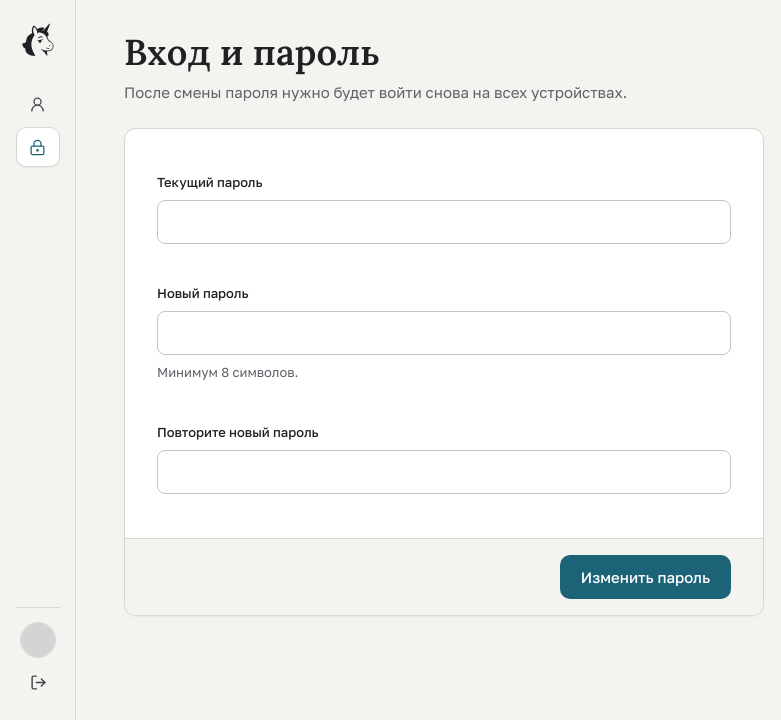
Test: AccountSettingsPage › shows a localized error for a wrong current password
Step 1. Type "wrong-password" into the password field labelled "Текущий пароль" → (444, 222), box top-left (157, 200), bottom-right (731, 244)
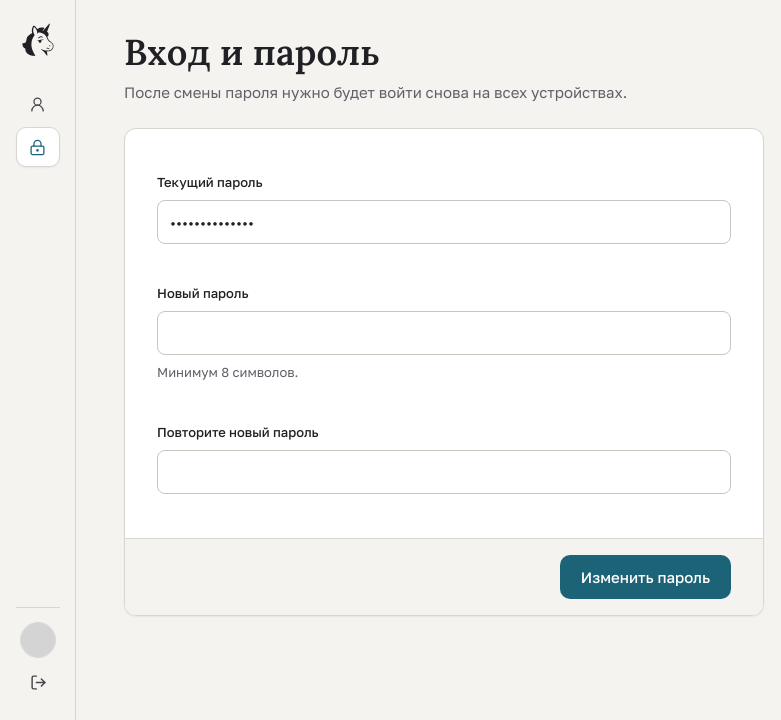
Step 2. Type "new-password-1" into the password field labelled "Новый пароль" → (444, 333), box top-left (157, 311), bottom-right (731, 355)
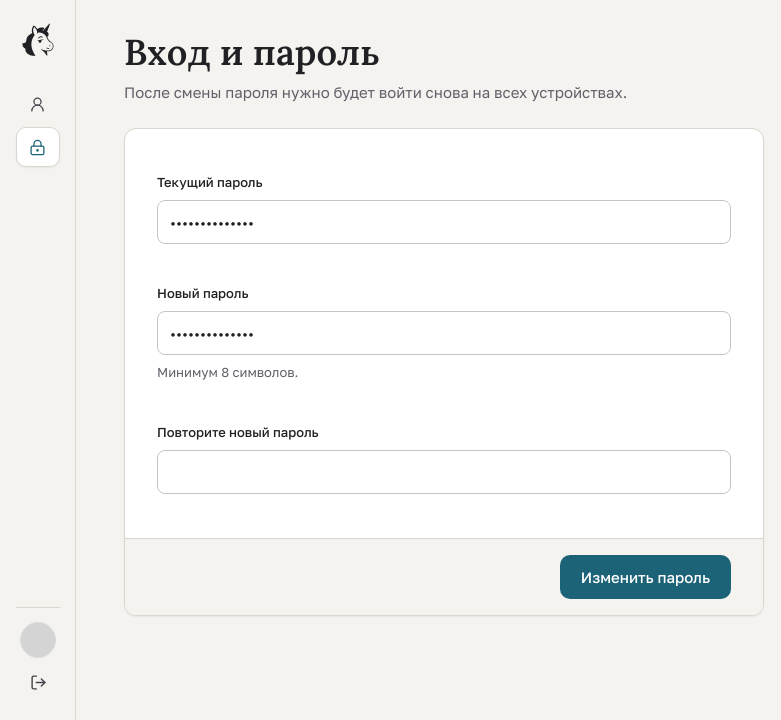
Step 3. Type "new-password-1" into the password field labelled "Повторите новый пароль" → (444, 472), box top-left (157, 450), bottom-right (731, 494)
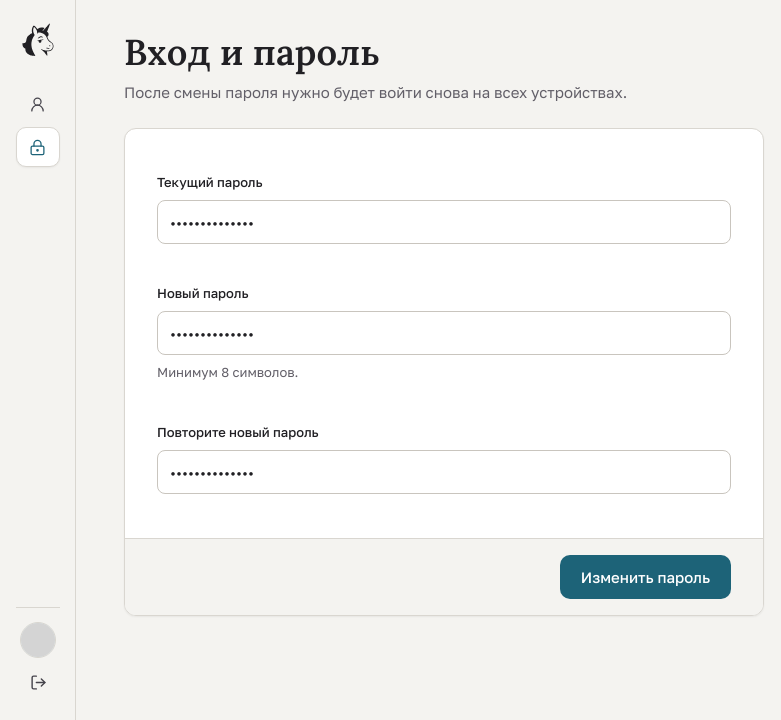
Step 4. Click the button "Изменить пароль" → (645, 577), box top-left (560, 555), bottom-right (731, 599)
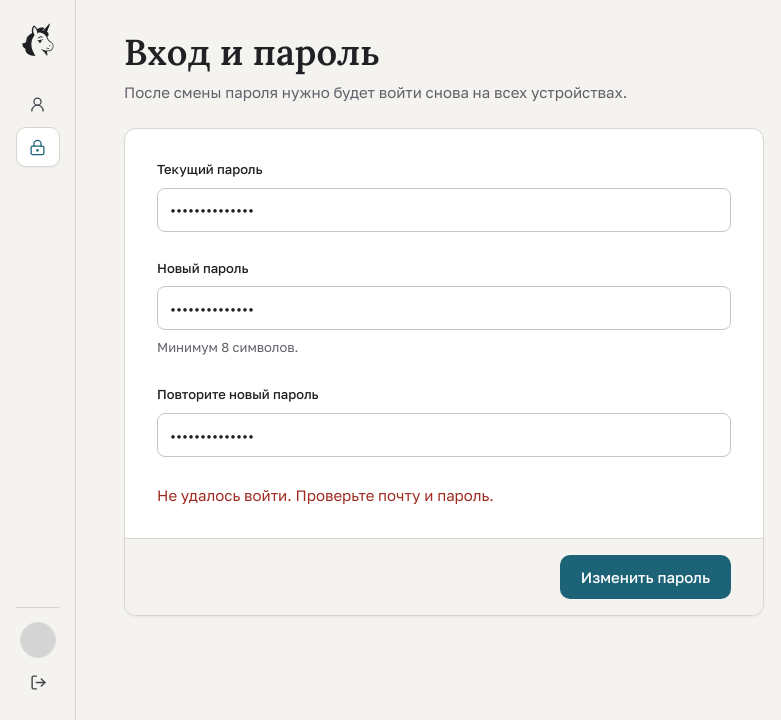
Check: the message reads "Не удалось войти. Проверьте почту и пароль.", box top-left (157, 486), bottom-right (494, 504)
